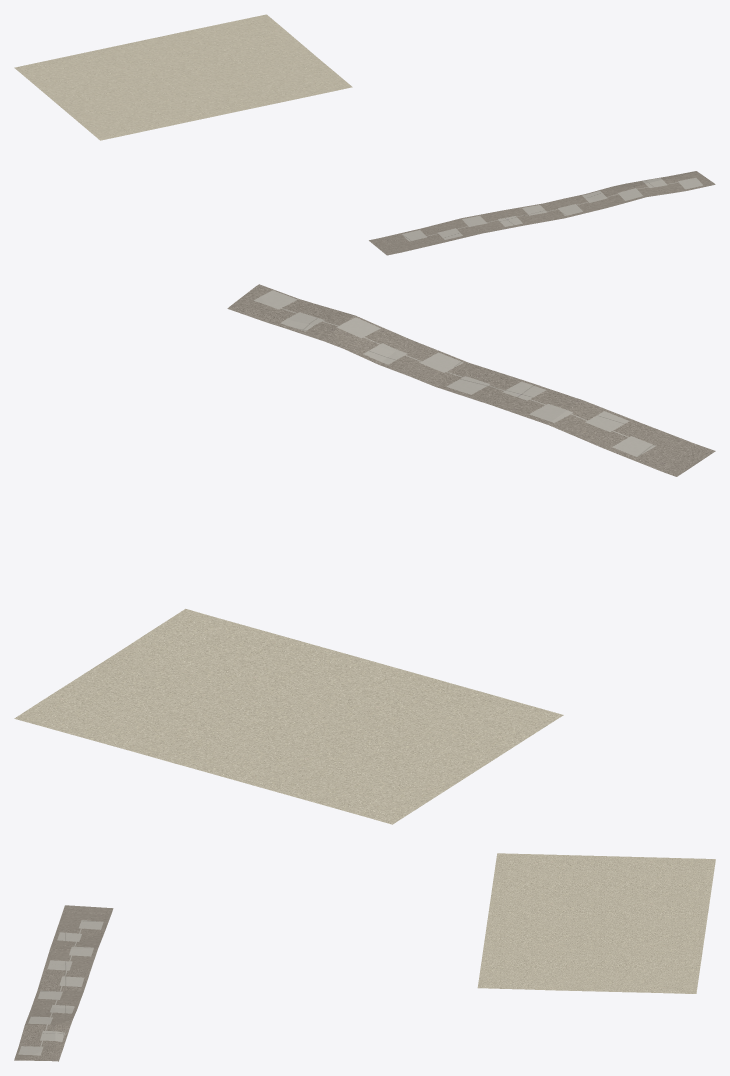
File: surfaces_2026.glb
3 renders of one model, top to bottom at view 1: azimuth 30°, elevation 25°; view 2: azimuth 150°, elevation 25°; view 3: azimuth 270°, elevation 25°, orthographic. The views are drawn at different scales.
Visible parts, largest first — view 1: site_gh_pad, p45_garden_path, p45_path_pavers; view 2: site_gh_pad, p45_garden_path, p45_path_pavers; view 3: site_gh_pad, p45_garden_path, p45_path_pavers.
Part boxes in pixels (x1,y1,x2,y2): site_gh_pad: (14, 14, 352, 140); p45_garden_path: (369, 171, 715, 255); p45_path_pavers: (402, 177, 703, 241); site_gh_pad: (14, 608, 563, 824); p45_garden_path: (227, 284, 715, 476); p45_path_pavers: (254, 290, 655, 456); site_gh_pad: (477, 853, 715, 993); p45_garden_path: (14, 905, 113, 1061); p45_path_pavers: (18, 920, 103, 1055).
Bounding box in the file's own units: 10.58 × 0.3612 × 14.09.
3 materials, 3 textured.
